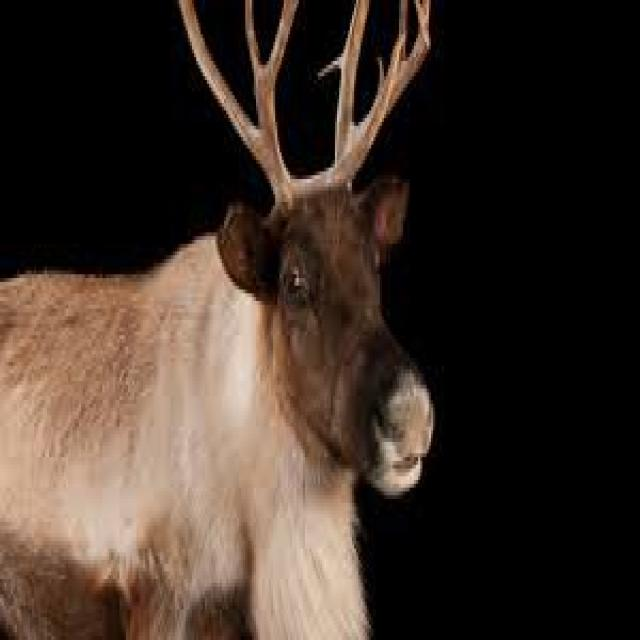Reindeer: (0, 0, 446, 640)
